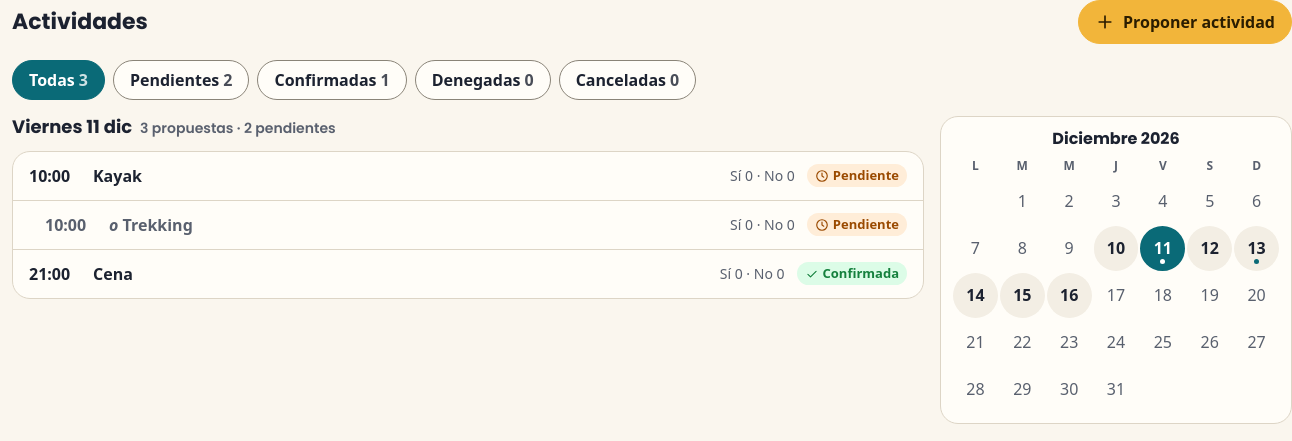
Test: ActividadesVista › el filtro cuenta las propuestas del día y permite ver varios estados
Expected: the elements with class "filtro__cantidad" read "3", "2", "1", "0", "0", in this order, [79,68,88,92]; [223,68,232,92]; [380,68,390,92]; [524,68,534,92]; [670,68,679,92]
Click the button "Confirmadas 1" at (332, 80), box [258,60,407,100]
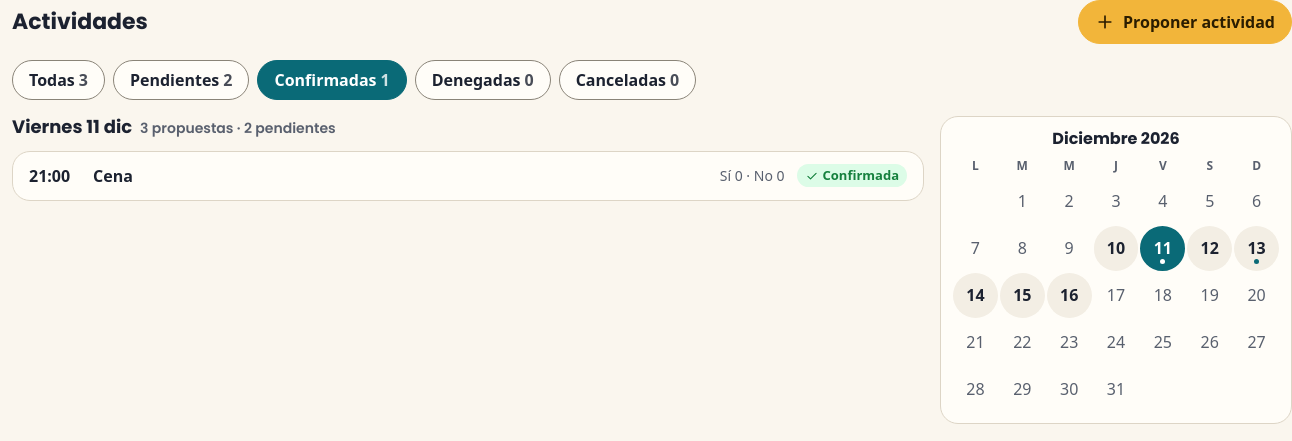
Click the button "Denegadas 0" at (483, 80), box [415,60,551,100]
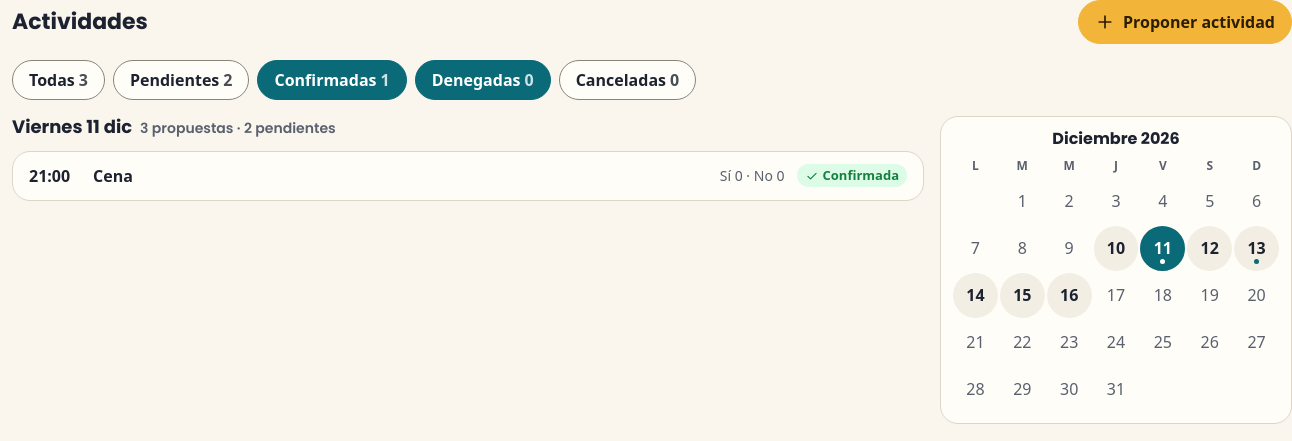
Click the button "Confirmadas 1" at (332, 80), box [258,60,407,100]
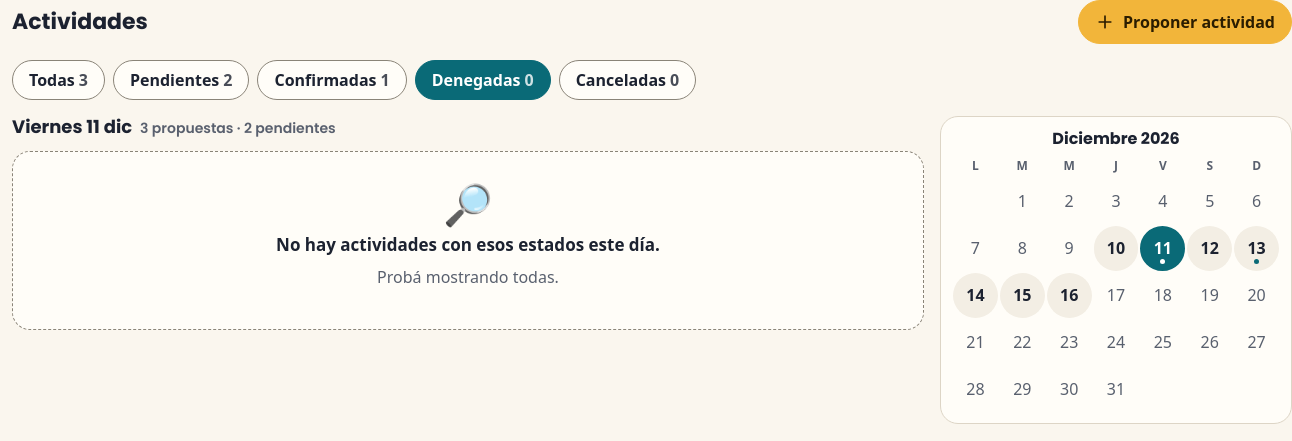
Expected: the text "No hay actividades con esos estados este día." is shown, [276,232,660,257]
